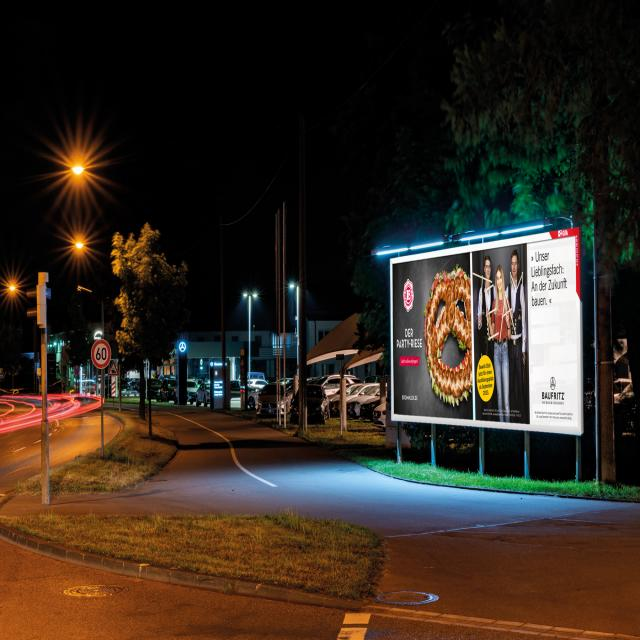Werbetafel frei: (385, 226, 584, 436)
